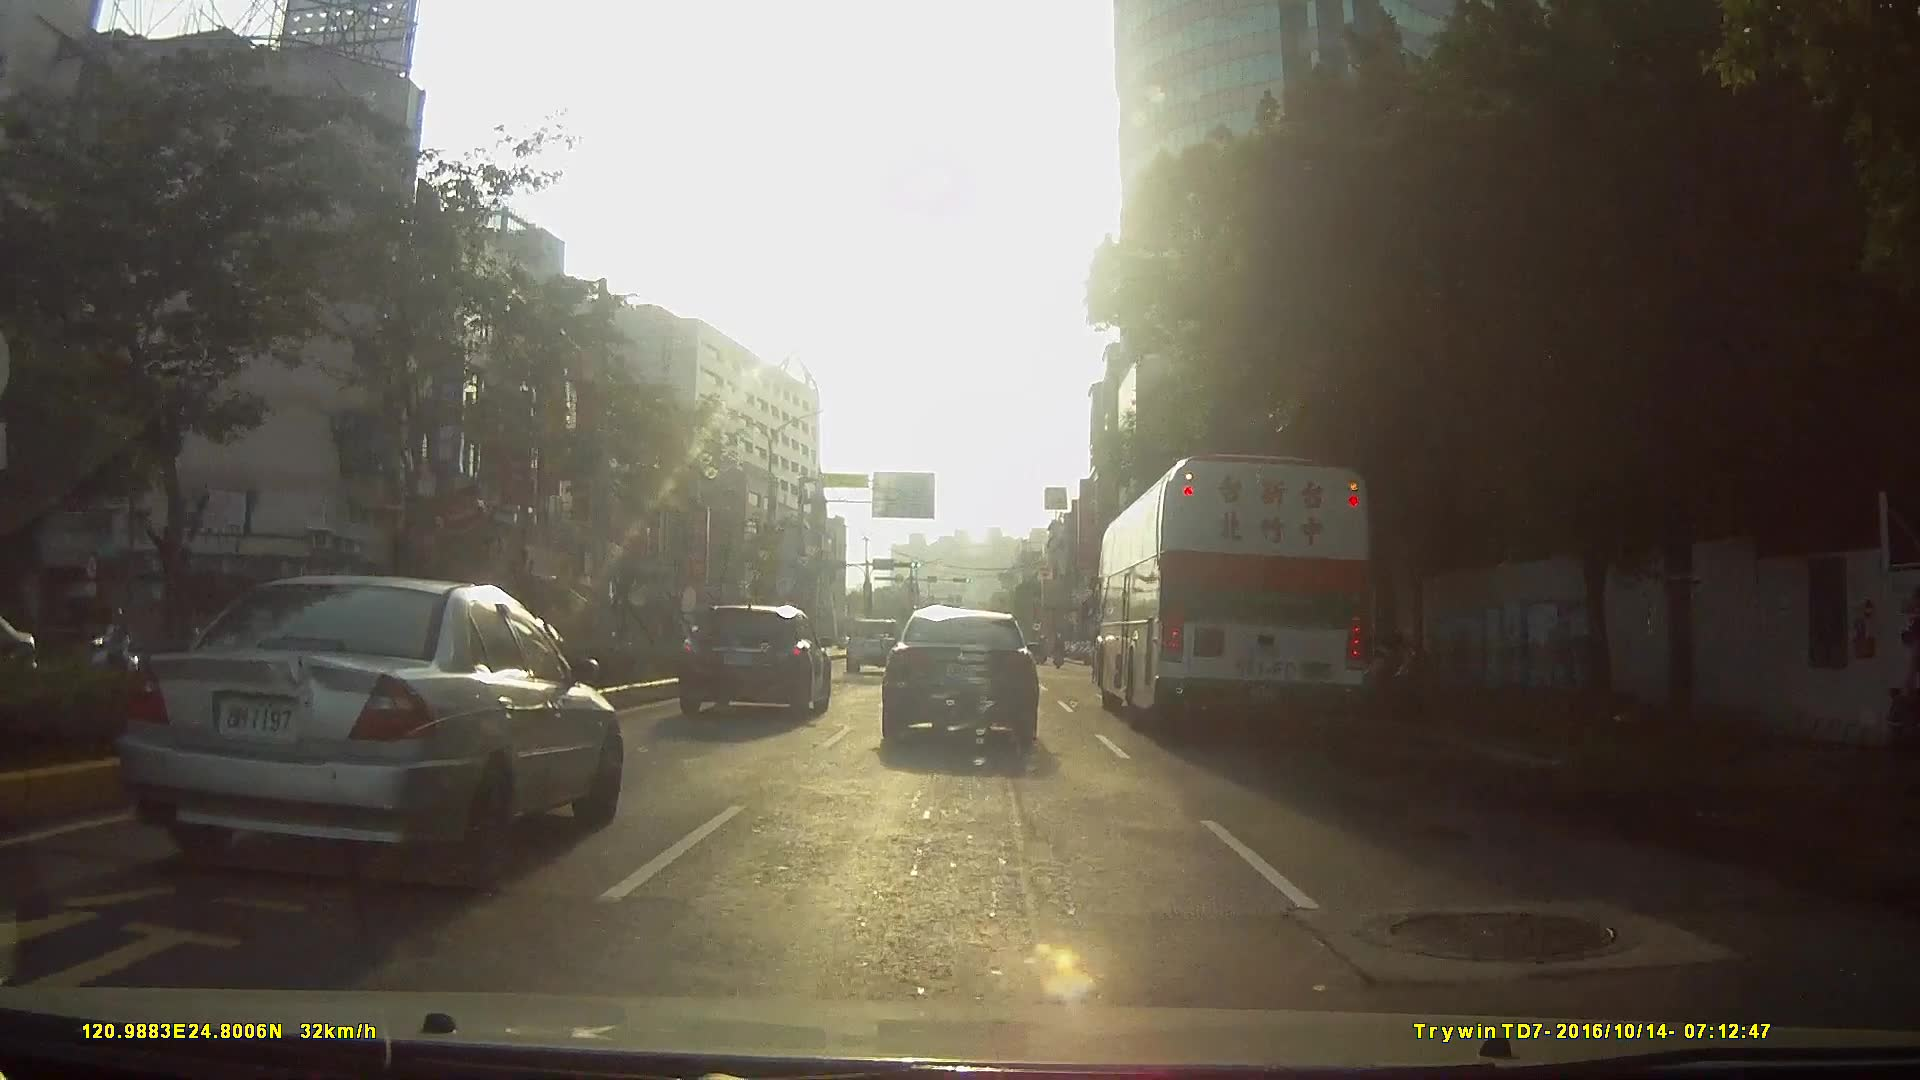rider: (82, 607, 142, 692)
vehicle: (111, 574, 624, 897), (1100, 445, 1386, 732), (879, 608, 1042, 752), (677, 602, 833, 720), (846, 618, 902, 676)
